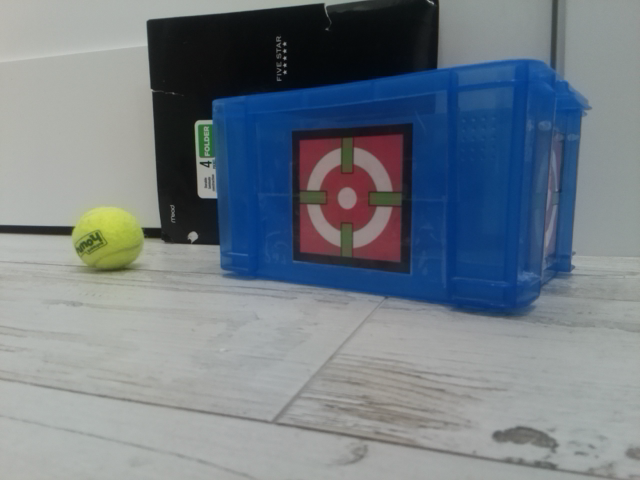drop-bin: (291, 122, 413, 275)
yellow-ball: (71, 205, 144, 273)
